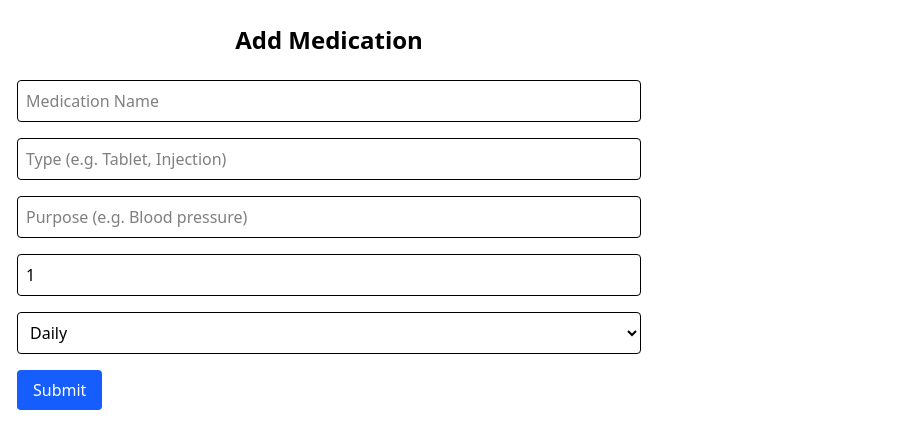
Test case: AddMedication › submits the form and shows success
Type "TestMed" into the field with placeholder "Medication Name" at (329, 101), box [17,80,641,122]
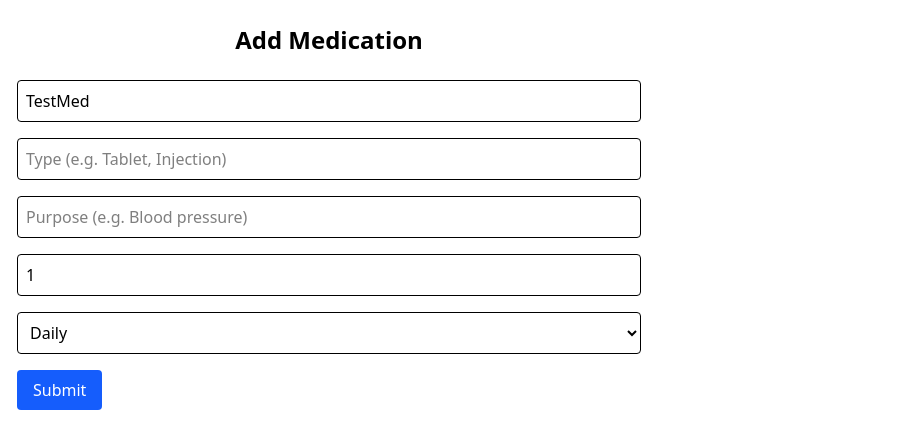
Type "Tablet" into the field with placeholder "Type (e.g. Tablet, Injection)" at (329, 159), box [17,138,641,180]
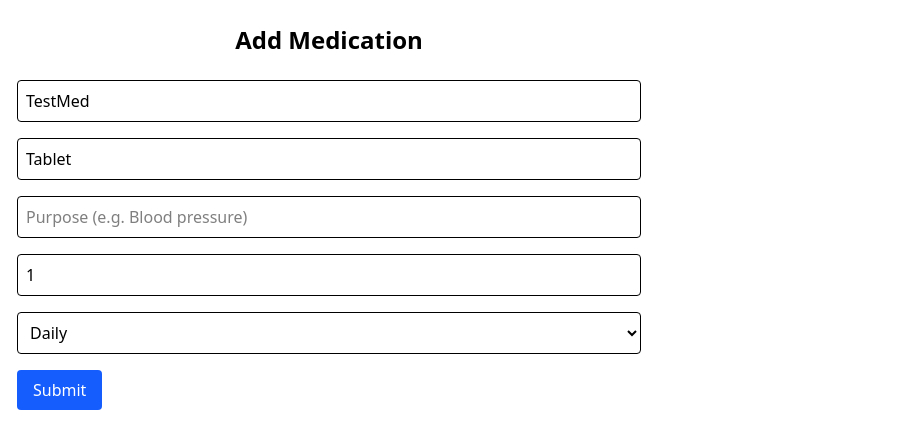
Type "Testing" into the field with placeholder "Purpose (e.g. Blood pressure)" at (329, 217), box [17,196,641,238]
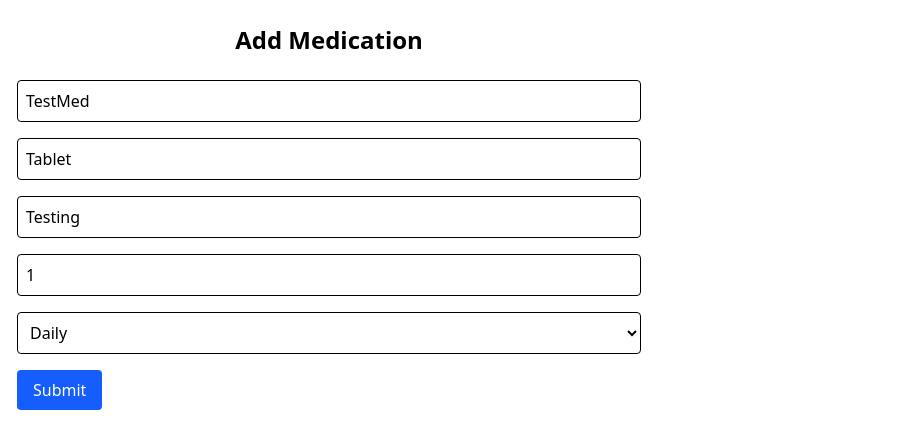
Click the button "Submit" at (60, 390), box [17,370,102,410]
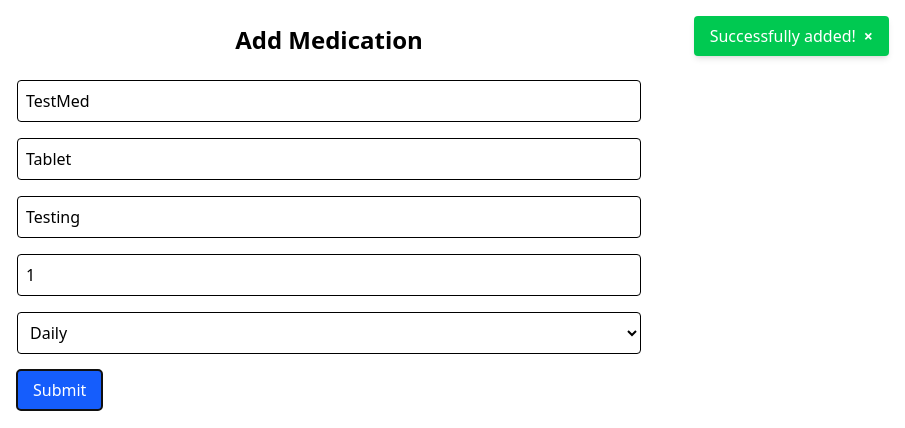
Result: the text "Successfully added!" is shown at [710,25,856,47]
